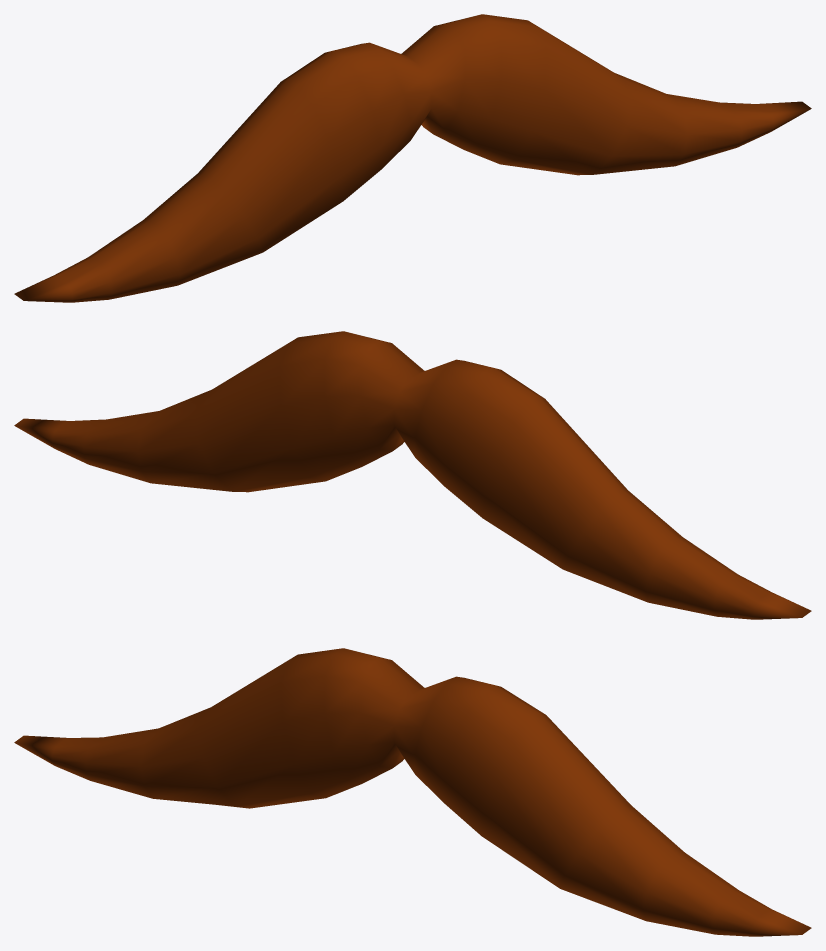
The model's file is Beard_12_02.fbx.
3 views of the same model, one above another, from view 1: azimuth 30°, elevation 25°; view 2: azimuth 150°, elevation 25°; view 3: azimuth 330°, elevation 25° (orthographic).
Visible parts, largest first — view 1: Beard_12_02; view 2: Beard_12_02; view 3: Beard_12_02.
Part boxes in pixels (x1,y1,x2,y2): Beard_12_02: (14, 14, 811, 302); Beard_12_02: (14, 331, 811, 619); Beard_12_02: (14, 648, 811, 936).
Bounding box in the file's own units: 19.83 × 4.47 × 2.17.
